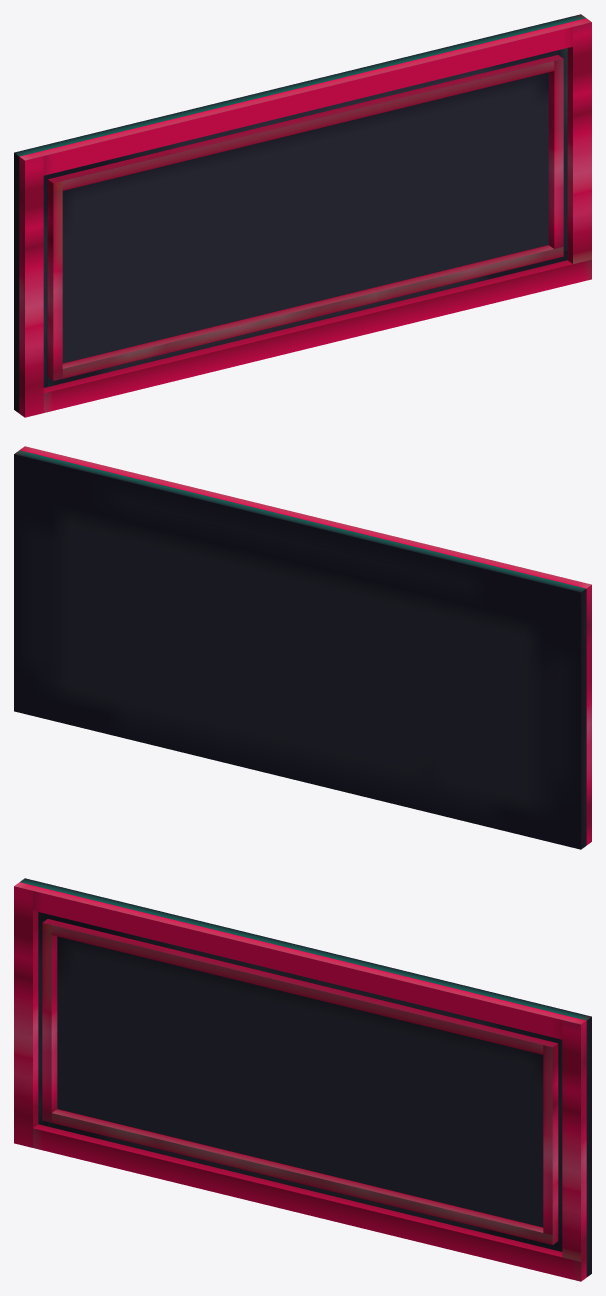
The model's file is BillboardModule_Backplate_F_00.fbx.
3 renders of one model, top to bottom at view 1: azimuth 30°, elevation 25°; view 2: azimuth 150°, elevation 25°; view 3: azimuth 330°, elevation 25°, orthographic.
Visible parts, largest first — view 1: BillboardModule_Backplate_F_00; view 2: BillboardModule_Backplate_F_00; view 3: BillboardModule_Backplate_F_00.
Boxes of the visible parts, x1=… form: BillboardModule_Backplate_F_00: x1=14, y1=14, x2=591, y2=417; BillboardModule_Backplate_F_00: x1=14, y1=446, x2=591, y2=849; BillboardModule_Backplate_F_00: x1=14, y1=878, x2=591, y2=1281.
Bounding box in the file's own units: 300 × 130 × 10.
